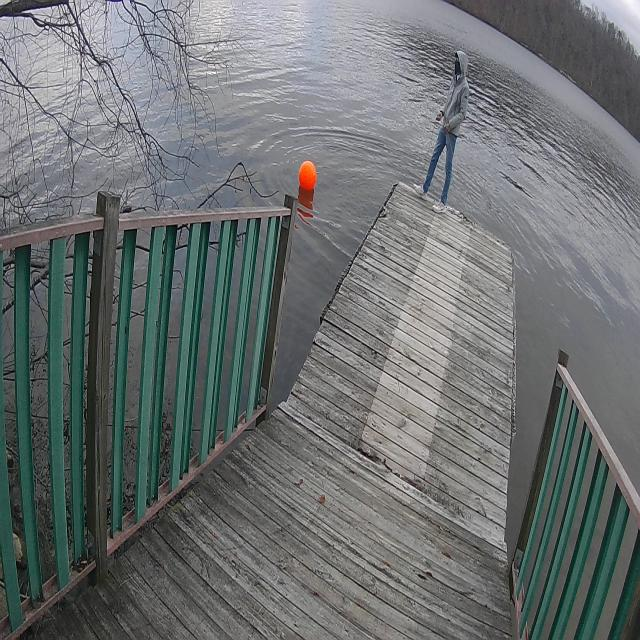Buoy: (296, 155, 322, 195)
